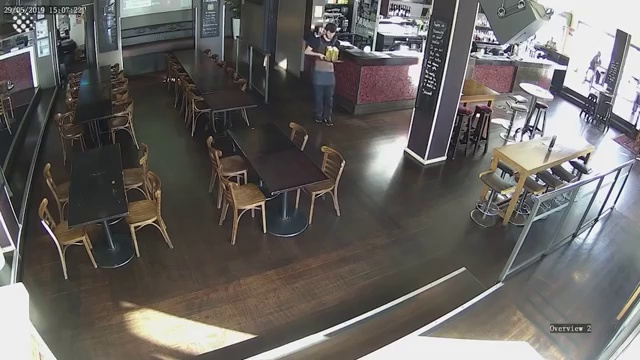face: (324, 27, 335, 40)
